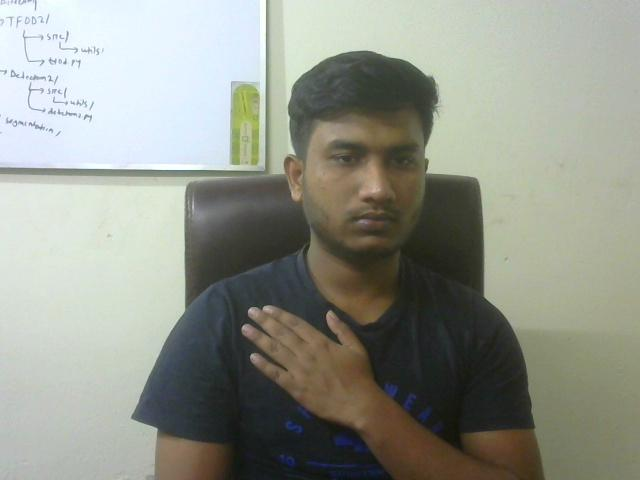Please: (221, 275, 406, 437)
